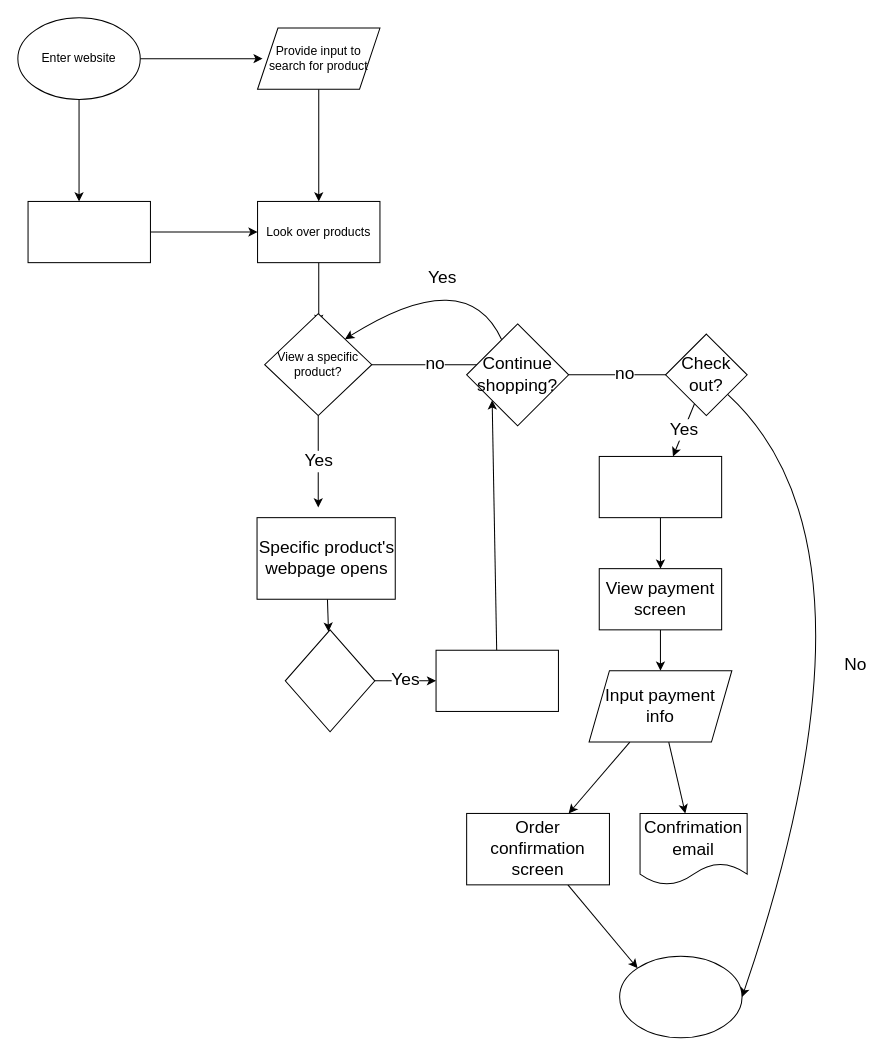
Image size: 884x1056. Some labels were removed from this diagram. The shapes that lost their labels are listed below. From the top down, each one's box as (x1, y1, x2, y2) in pixels, then its label:
(27, 200, 150, 263): explore homepage products
(598, 455, 722, 518): View cart screen
(284, 629, 375, 732): Add to cart?
(435, 649, 558, 711): Add to cart confirmation
(619, 955, 742, 1038): Leave website
